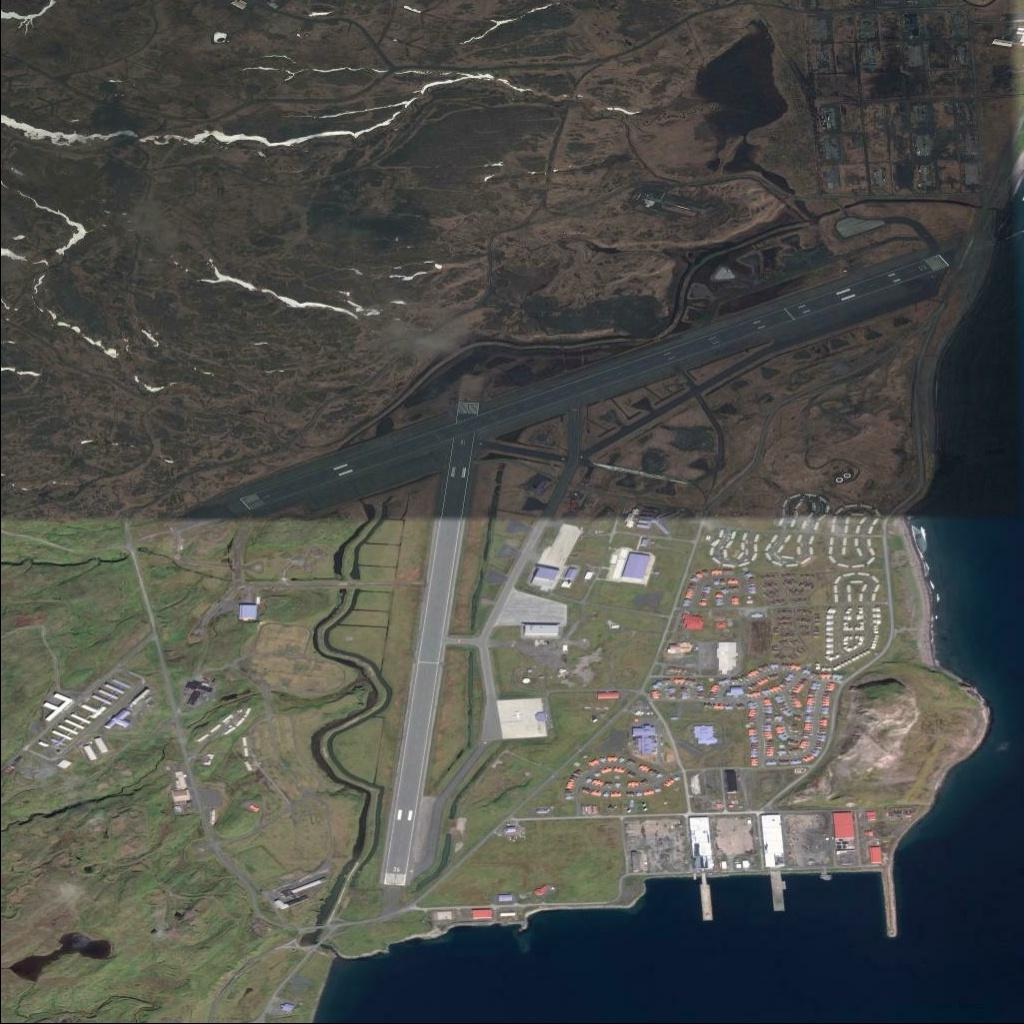harbor: (883, 872, 901, 937), (770, 872, 790, 912), (699, 875, 715, 921)
